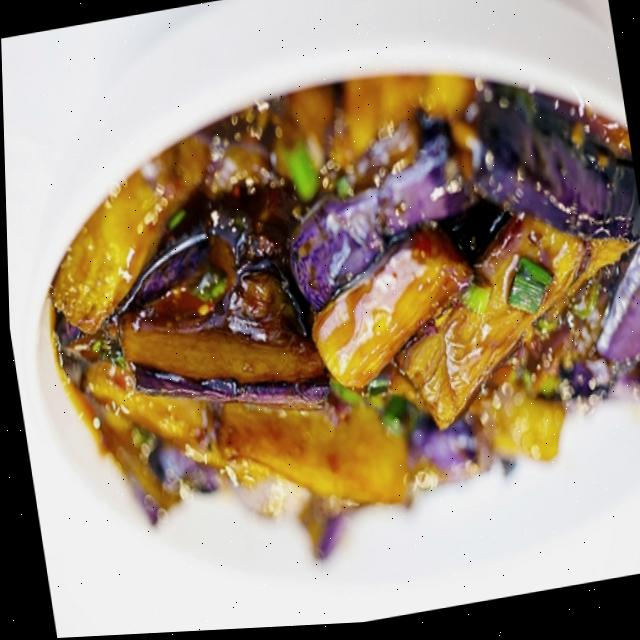鸡蛋料理: (13, 28, 640, 600)
